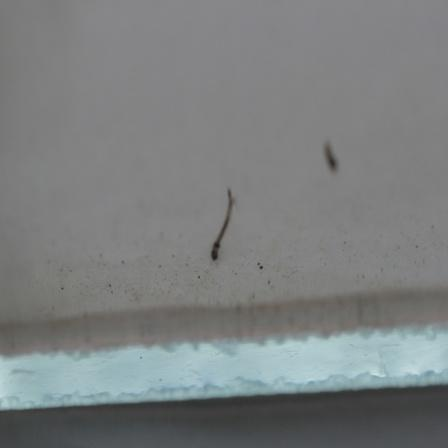Jentik-Nyamuk: (208, 187, 238, 263)
